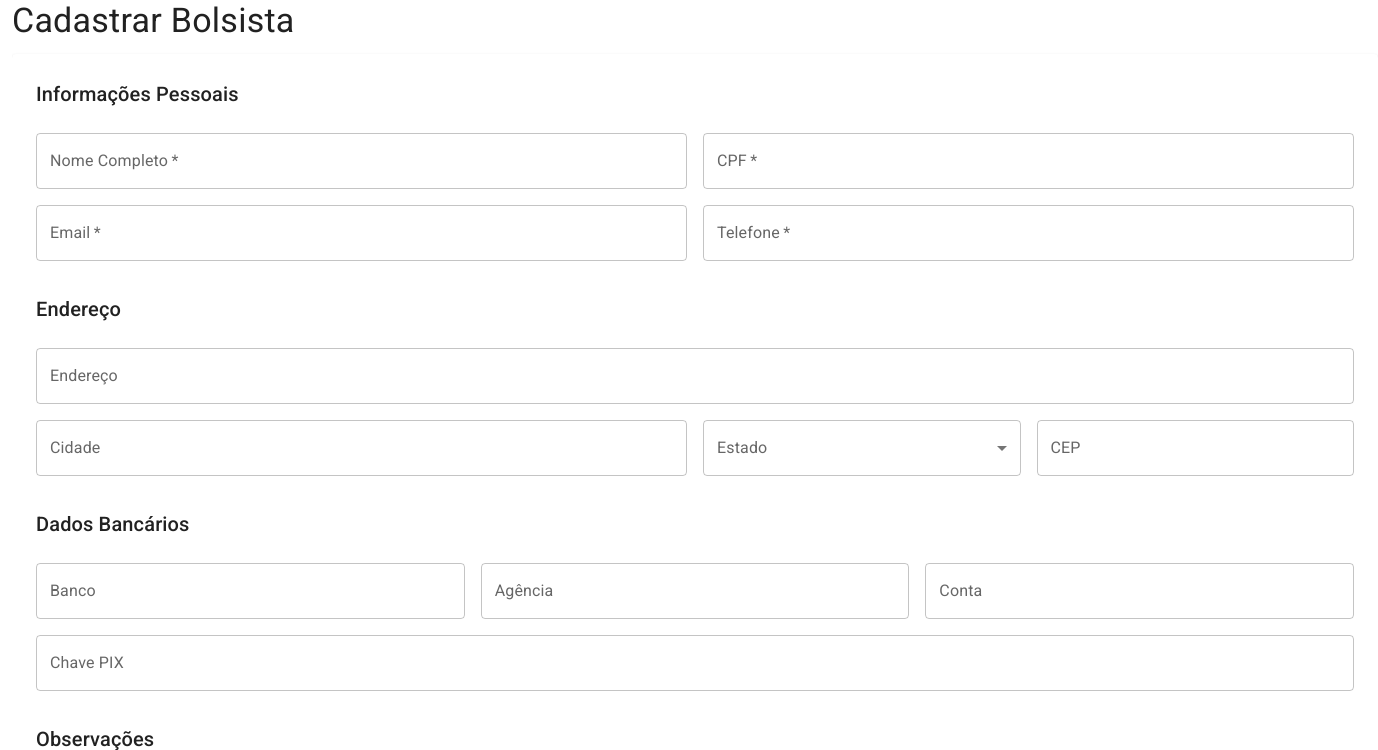
Test: BolsistasForm Component › trata erros da API
The width and height of the screenshot is (1378, 750).
Type "João da Silva" into the field labelled "Nome Completo *" at [362, 161], box [36,133,687,189]
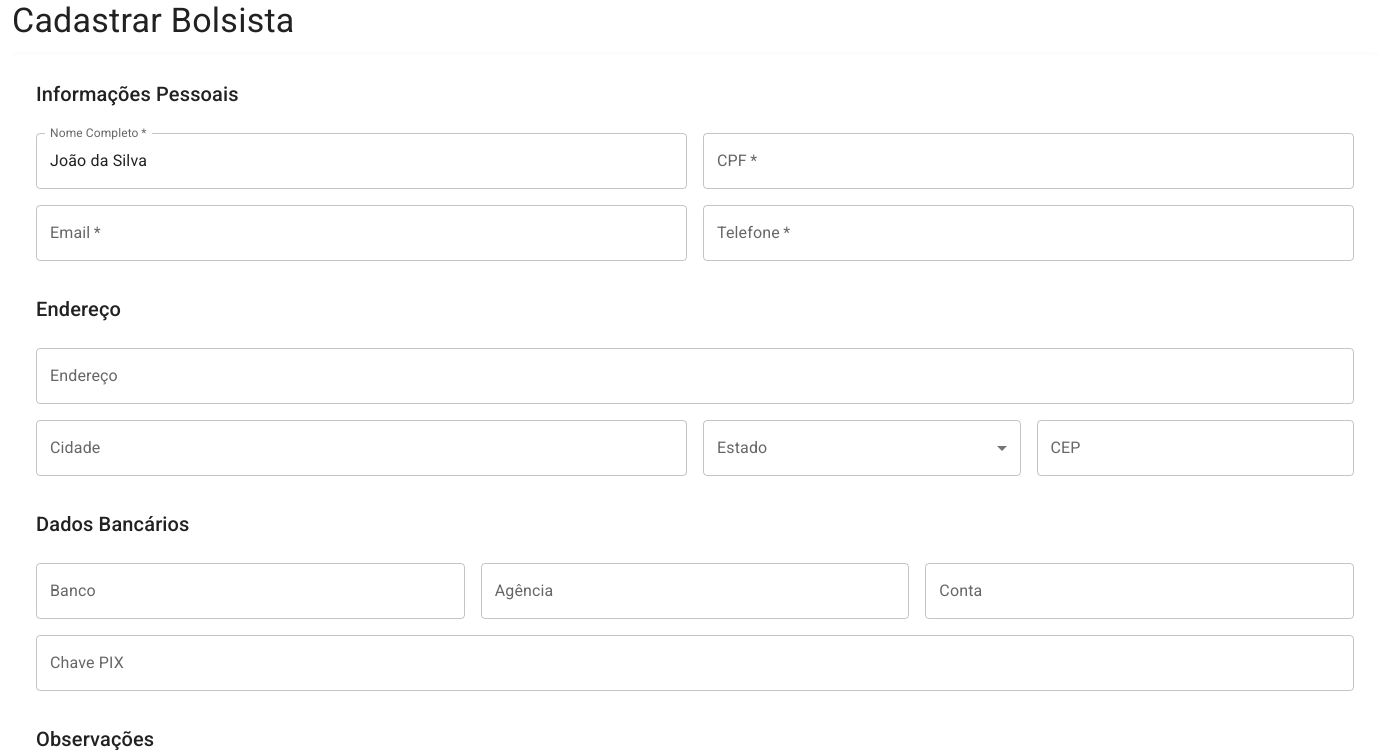
Type "123.456.789-09" into the field labelled "CPF *" at [1028, 161], box [703,133,1354,189]
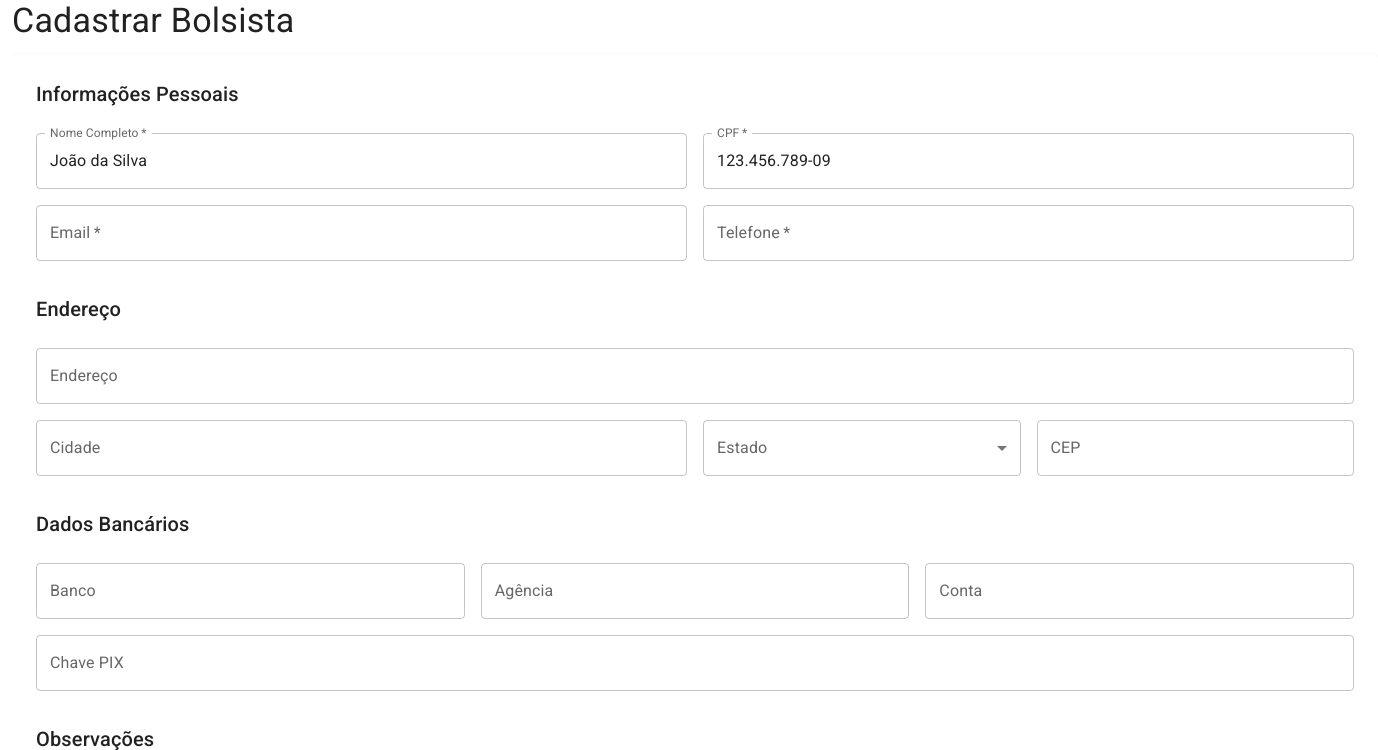
Type "joao@example.com" into the field labelled "Email *" at [362, 233], box [36,205,687,261]
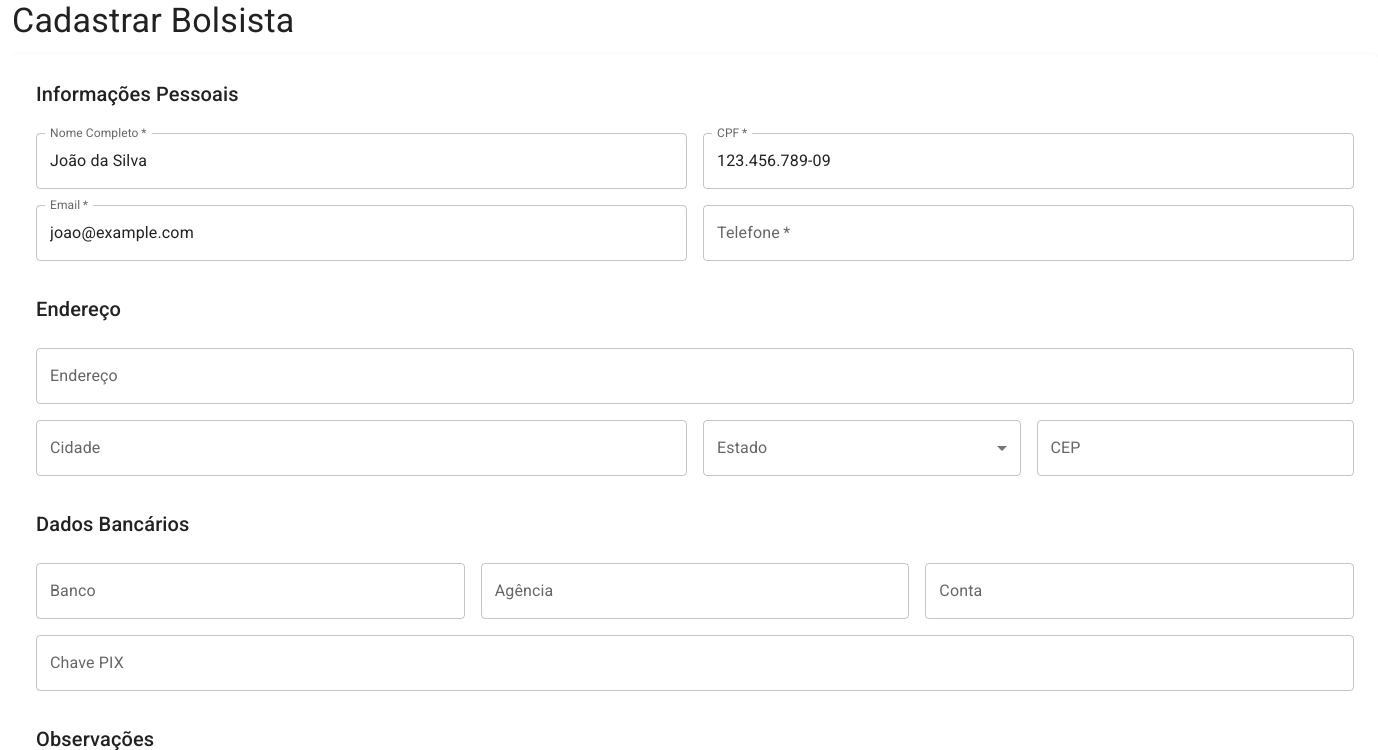
Type "(85) 99999-9999" into the field labelled "Telefone *" at [1028, 233], box [703,205,1354,261]
(page scrolled)
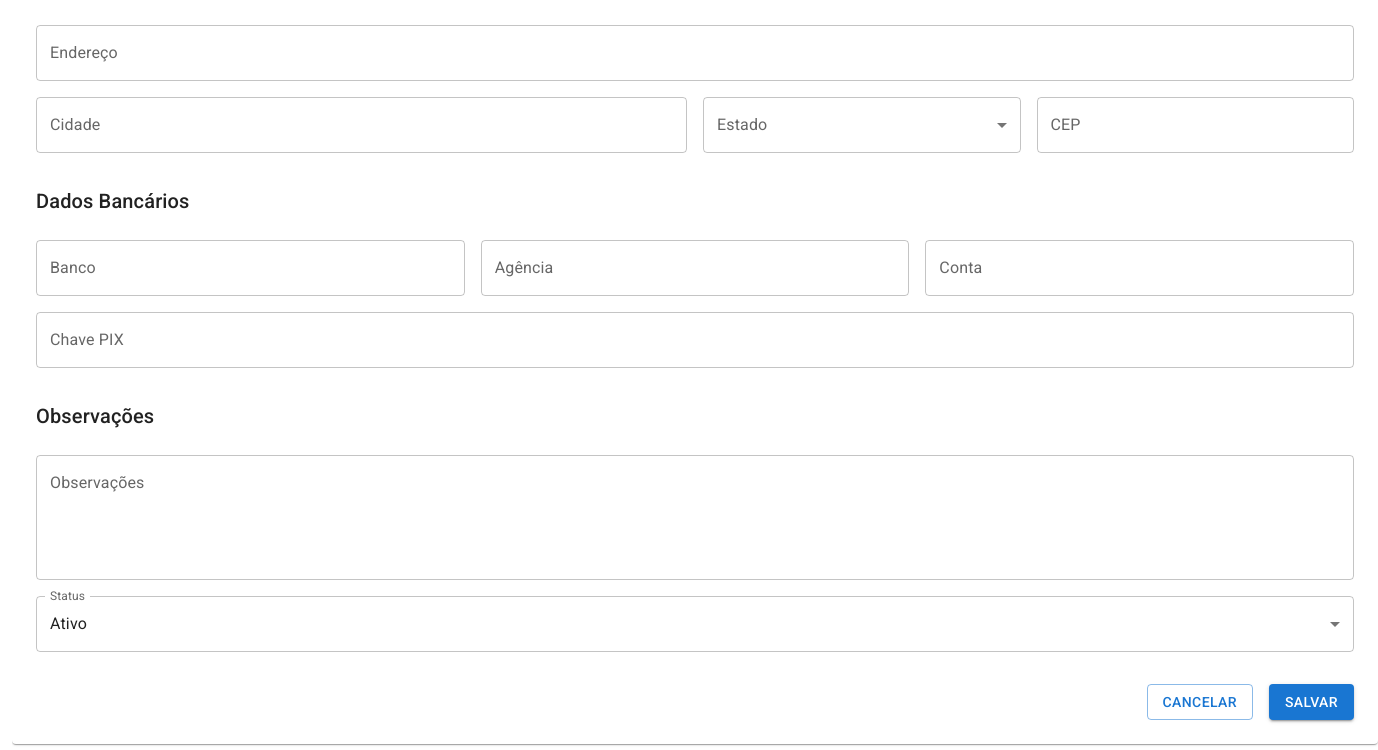
# Clicar no botão salvar
Click the button "Salvar" at [1311, 702], box [1269,684,1354,720]
(page scrolled)
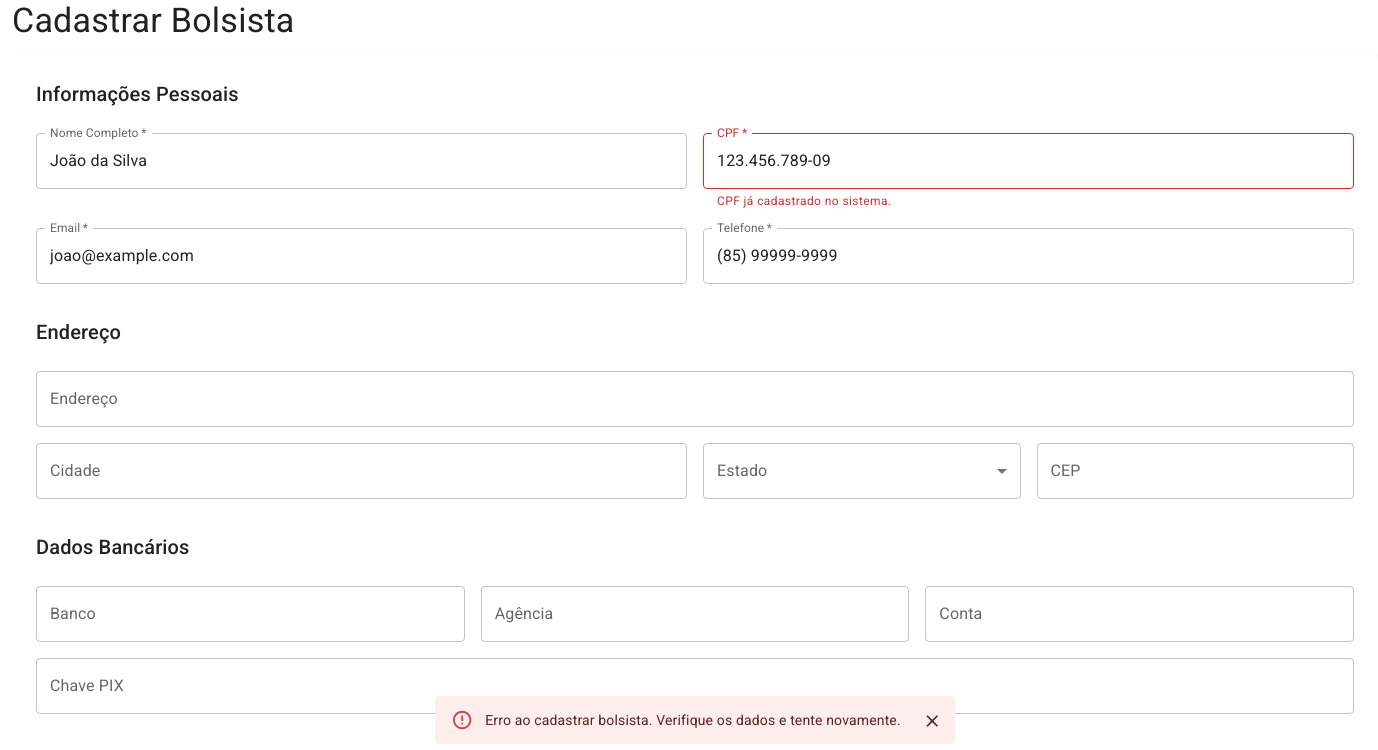
Now the text "CPF já cadastrado no sistema." is shown, box [717,194,891,208]
